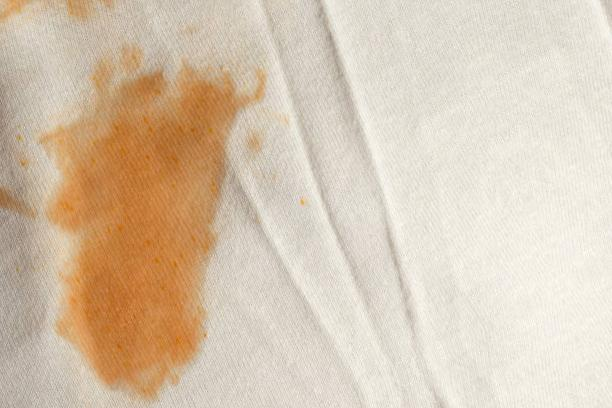stain: (41, 38, 277, 408), (1, 1, 128, 30), (1, 184, 40, 234), (15, 124, 37, 174), (296, 192, 326, 226), (242, 124, 269, 161), (275, 103, 299, 133)
